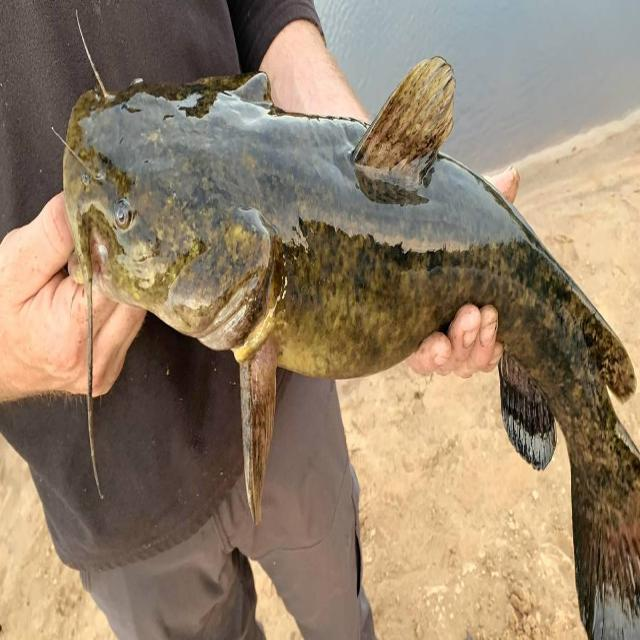Catfish - Flathead: (64, 74, 640, 638)
